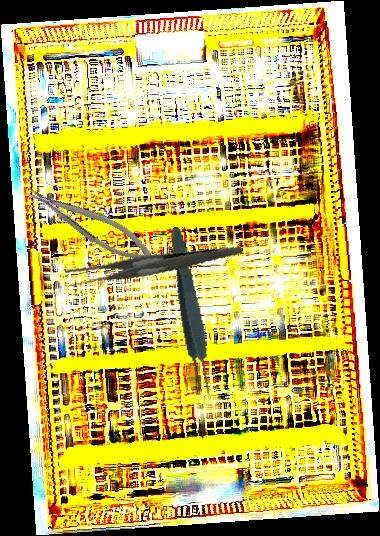Dressing Forceps: (62, 220, 244, 313)
Needle Holder: (21, 173, 163, 276)
Tissue Forceps: (164, 225, 216, 399)
